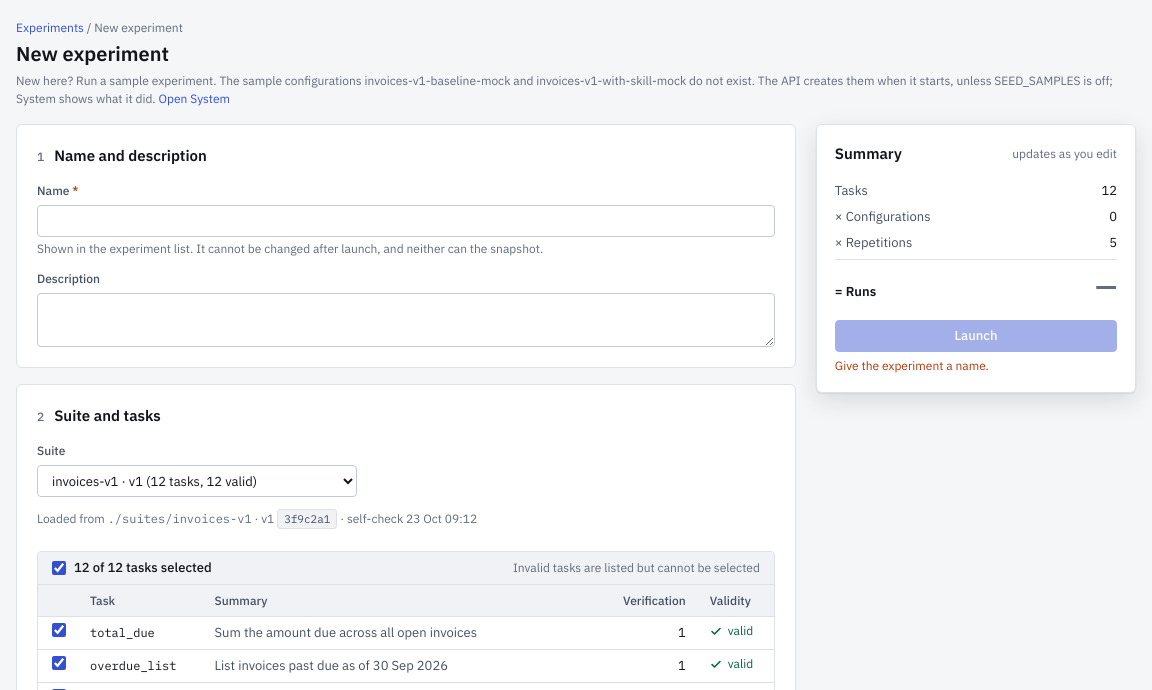
New experiment with the mock model as judge (judge-mock) › warns once a real model meets a selected llm_judge check, and never blocks
In the field with id "ne-name": (406, 221) [37,205,775,237], type "Skill vs no skill"
(page scrolled)
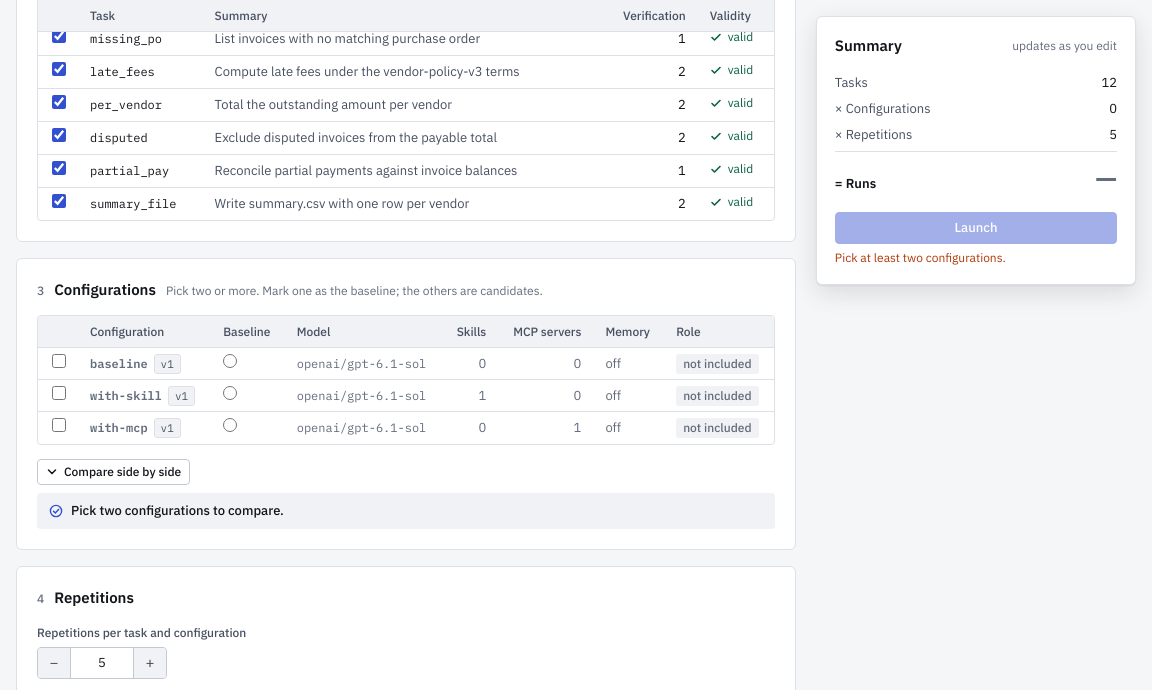
Click the checkbox named "Include baseline": (59, 360) [52,354,66,368]
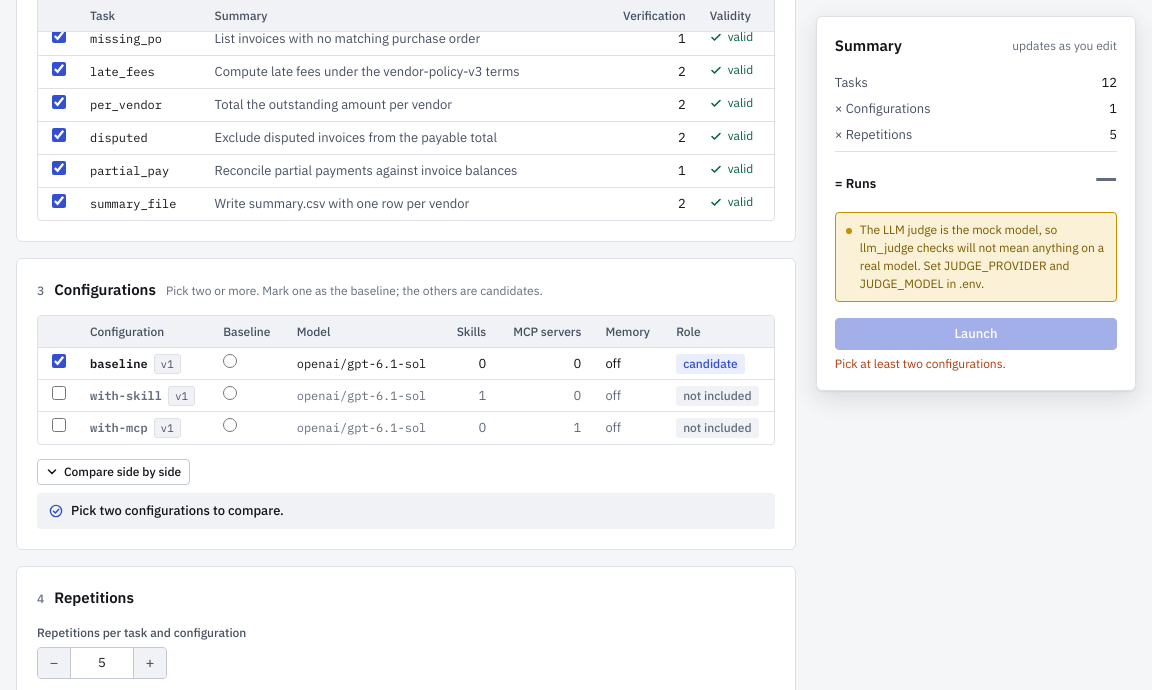
Click the checkbox named "Include with-skill": (59, 392) [52,386,66,400]
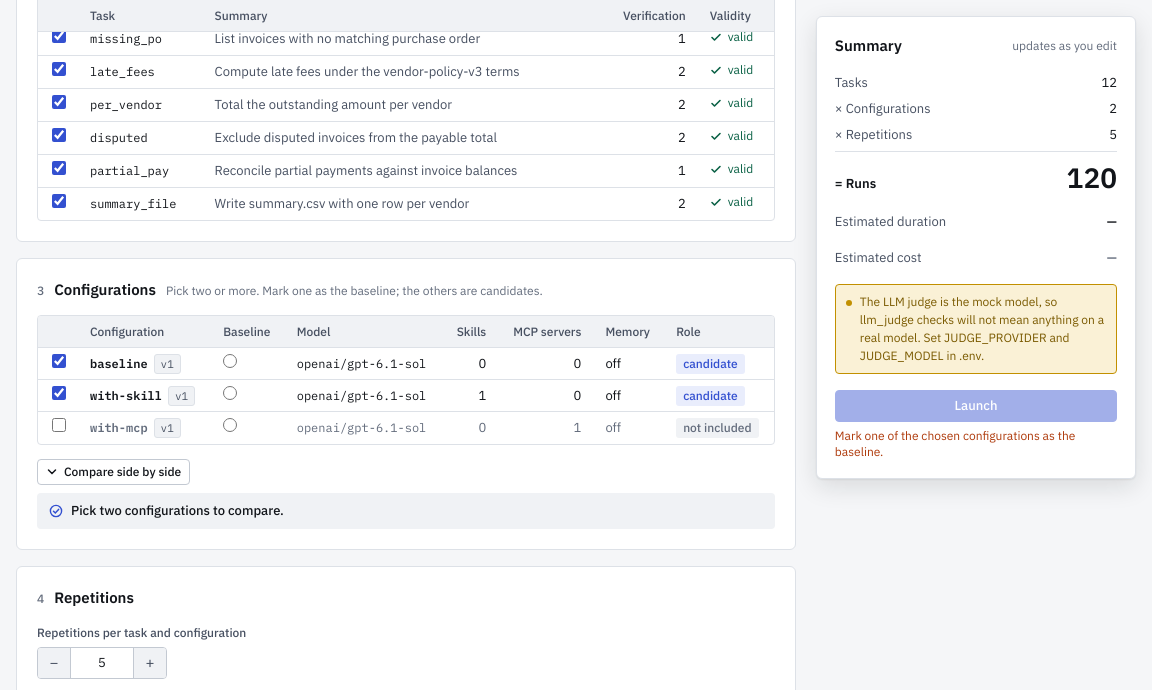
Click the radio button named "Use baseline as baseline": (230, 360) [223,354,237,368]
Wait 300 ms
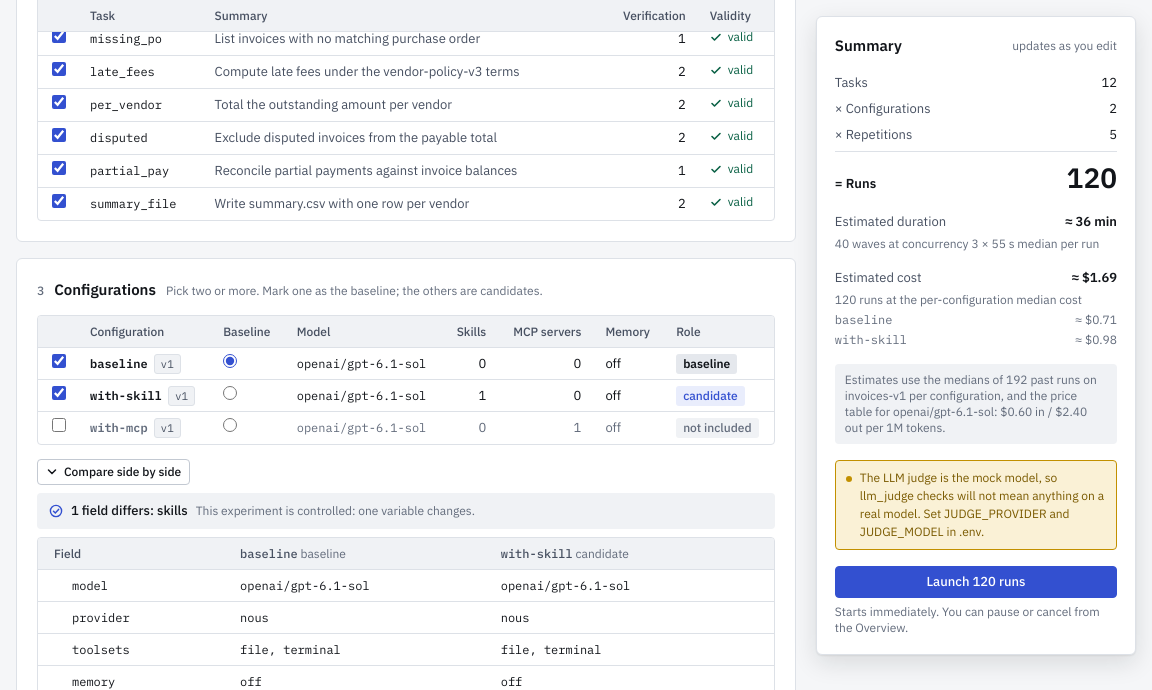
Expected: the message with test id "judge-warning" shows "The LLM judge is the mock model, so llm_judge checks will not mean anything on a real model. Set JUDGE_PROVIDER and JUDGE_MODEL in .env.", [860,470,1104,539]
Expected: the button with test id "launch" is enabled, [835,566,1117,598]
Expected: the button with test id "launch" reads "Launch 120 runs", [835,566,1117,598]
